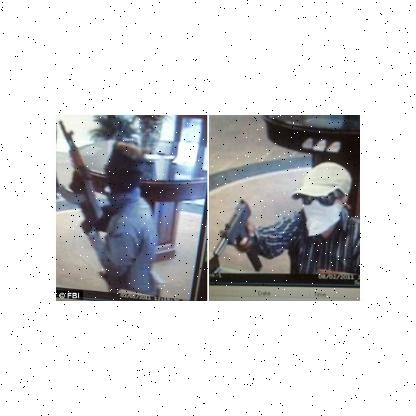gun: (213, 196, 265, 266)
